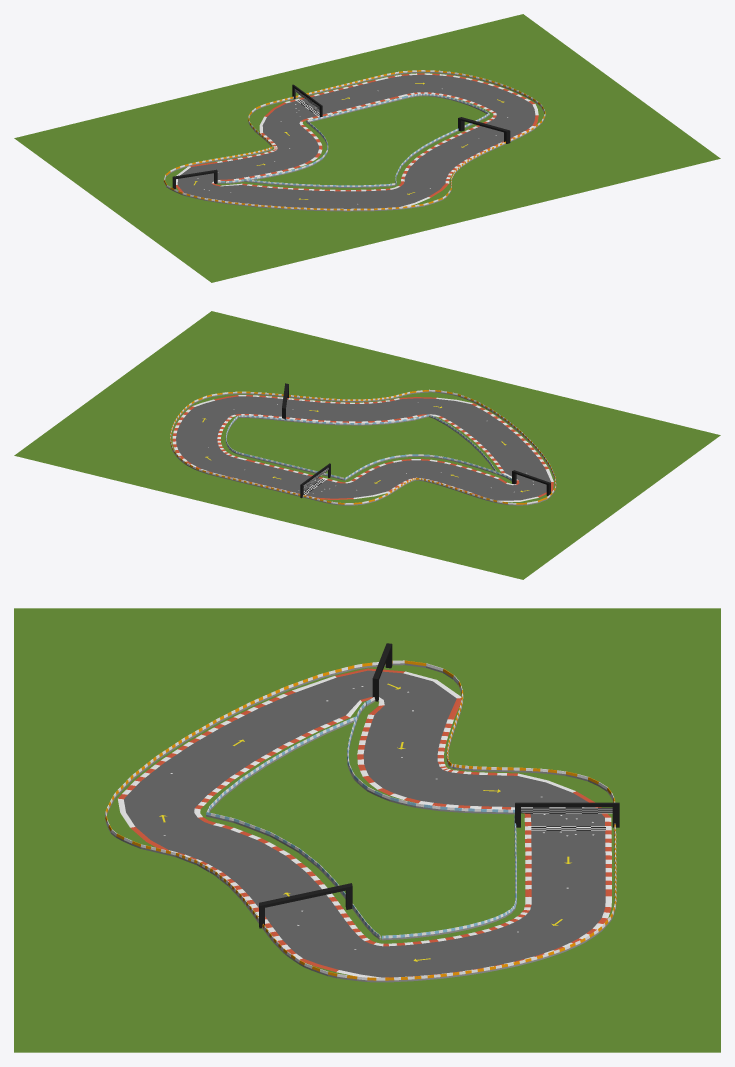
File: basic-track.glb
3 views of the same model, one above another, from view 1: azimuth 30°, elevation 25°; view 2: azimuth 150°, elevation 25°; view 3: azimuth 270°, elevation 25° (orthographic). The views are drawn at different scales.
Visible parts, largest first — view 1: ground, road, outer-fence, inner-fence; view 2: ground, road, outer-fence, inner-fence; view 3: ground, road, outer-fence, inner-fence, goal, checkpoint1.
Part boxes in pixels (box(x1,y1,x2,y2)): ground: box(14, 14, 720, 282); road: box(176, 73, 538, 208); outer-fence: box(163, 70, 545, 211); inner-fence: box(217, 93, 489, 187); ground: box(14, 311, 720, 579); road: box(172, 395, 553, 501); outer-fence: box(170, 389, 556, 505); inner-fence: box(225, 414, 511, 481); ground: box(14, 608, 720, 1052); road: box(118, 668, 611, 977); outer-fence: box(105, 660, 616, 982); inner-fence: box(206, 697, 516, 940); goal: box(515, 802, 619, 827); checkpoint1: box(259, 883, 352, 928).
Bounding box in the file's own units: 1055 × 35.65 × 710.
Materials: 2 (2 with a texture image).
